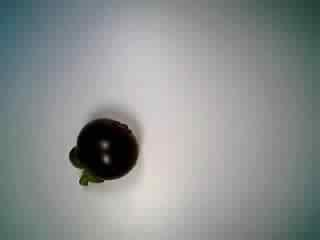mangosteen: (66, 111, 140, 190)
